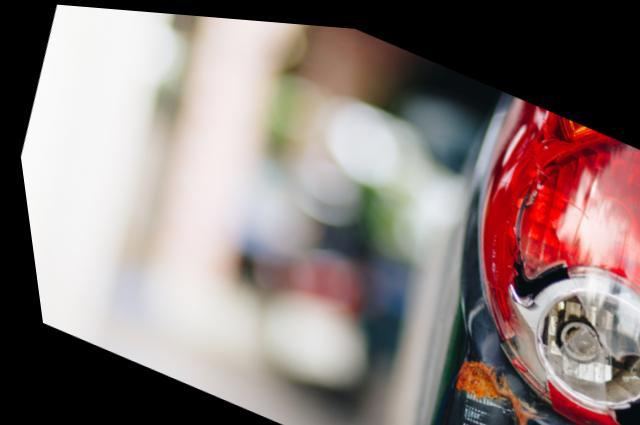lamp broken: (472, 86, 640, 425)
scratch: (448, 381, 513, 425)
